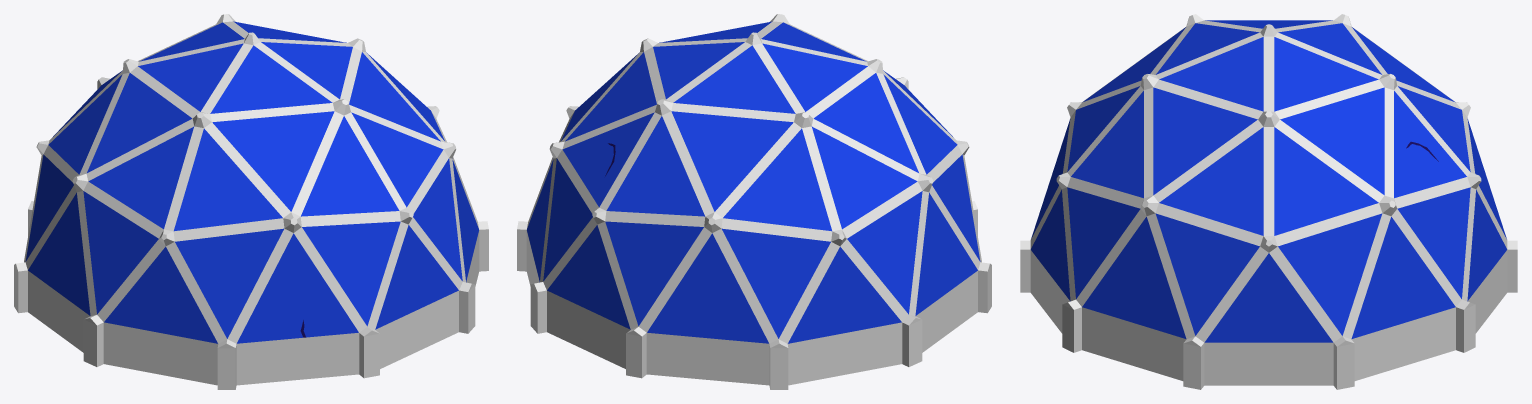
The model's file is DomeCity.fbx.
3 views of the same model, side by side, from view 1: azimuth 30°, elevation 25°; view 2: azimuth 150°, elevation 25°; view 3: azimuth 270°, elevation 25° (orthographic). The views are drawn at different scales.
Parts seen in each view (by area): view 1: DomeCity_Glass, DomeCity; view 2: DomeCity_Glass, DomeCity; view 3: DomeCity_Glass, DomeCity.
Boxes of the visible parts, x1,y1,x2,y2 form: DomeCity_Glass: (25,21,478,343); DomeCity: (14,14,488,389); DomeCity_Glass: (527,21,980,343); DomeCity: (517,14,991,389); DomeCity_Glass: (1030,20,1507,342); DomeCity: (1020,14,1517,389).
Size of the model in its own units: 705 by 435 by 733.
